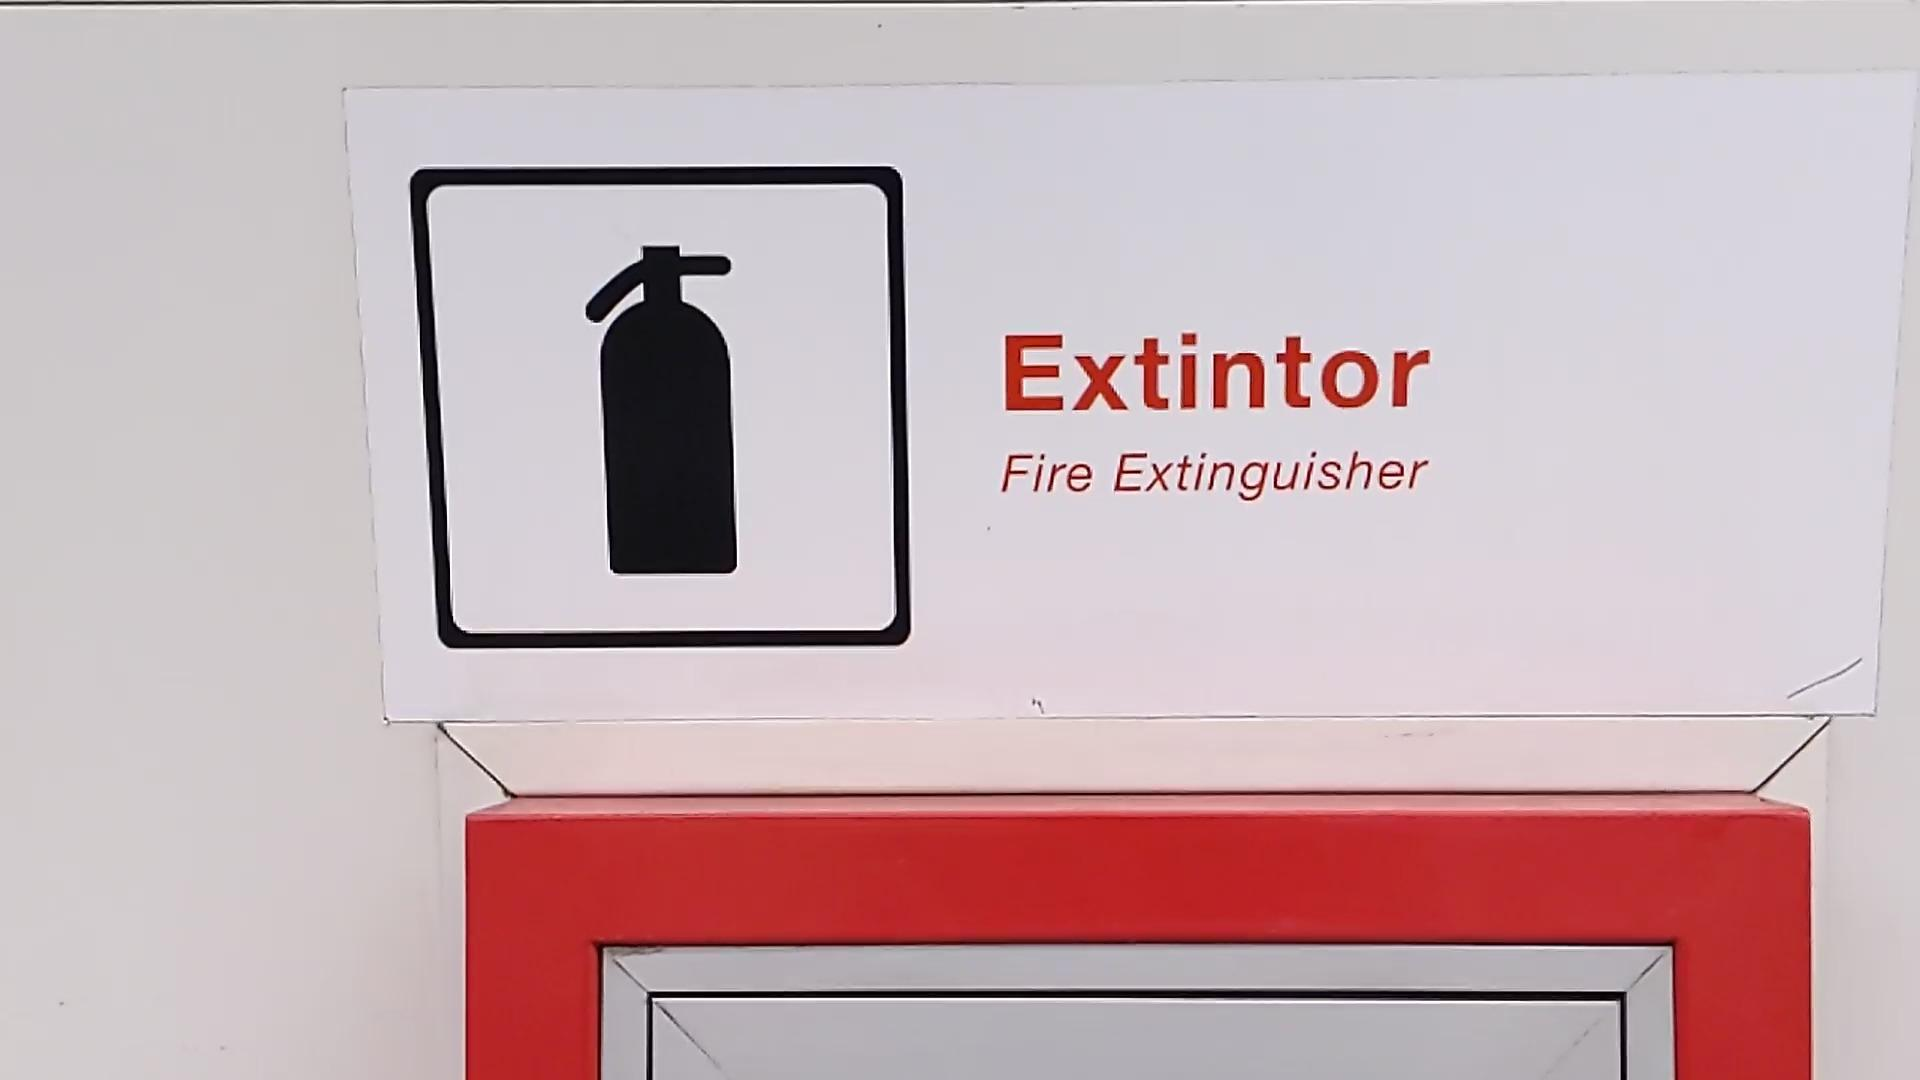extinguisher symbol: (584, 233, 746, 589)
